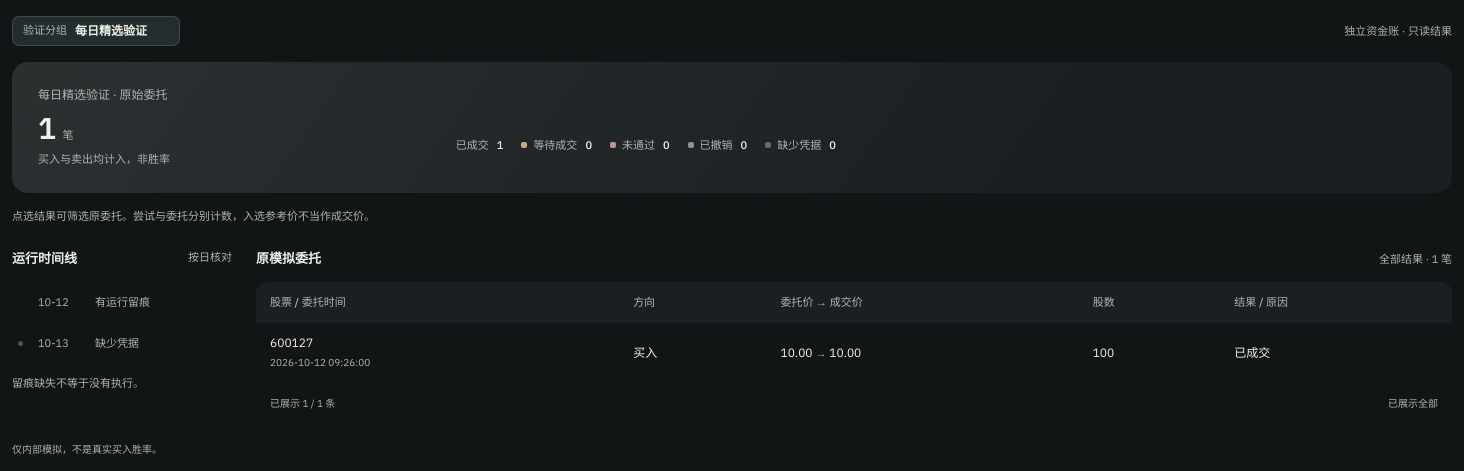
it: internal execution consolidation › filters original orders by result without changing the account facts
Click the button "未通过 0": (640,145) [610,133,670,158]
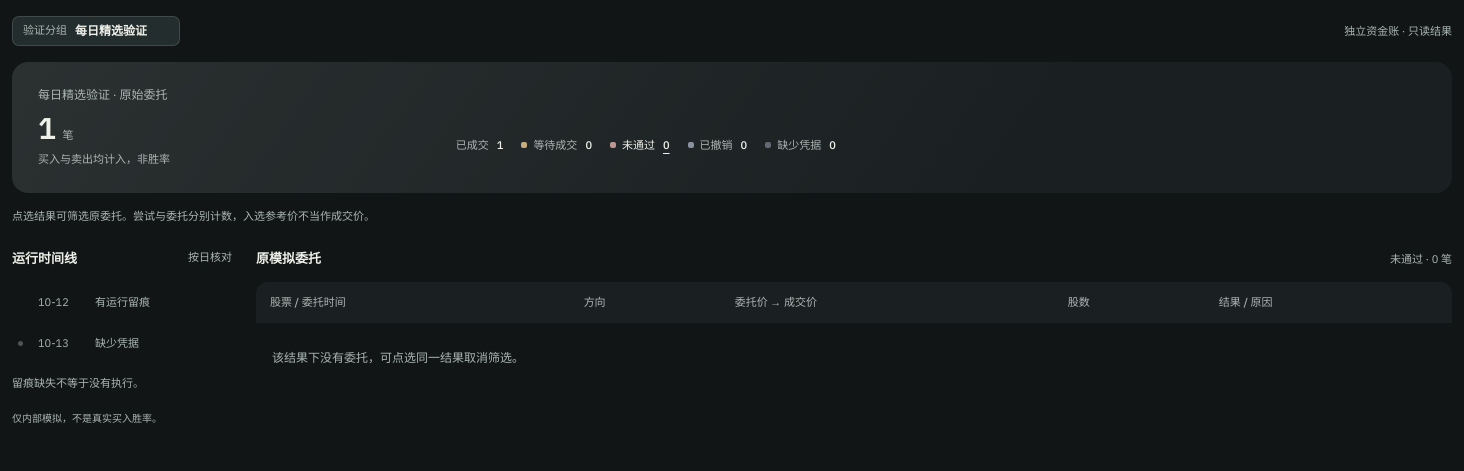
Now the button "600127" is gone
Now the text "该结果下没有委托，可点选同一结果取消筛选。" is shown, box [272,350,524,365]
Click the button "未通过 0": (640,145) [610,133,670,158]
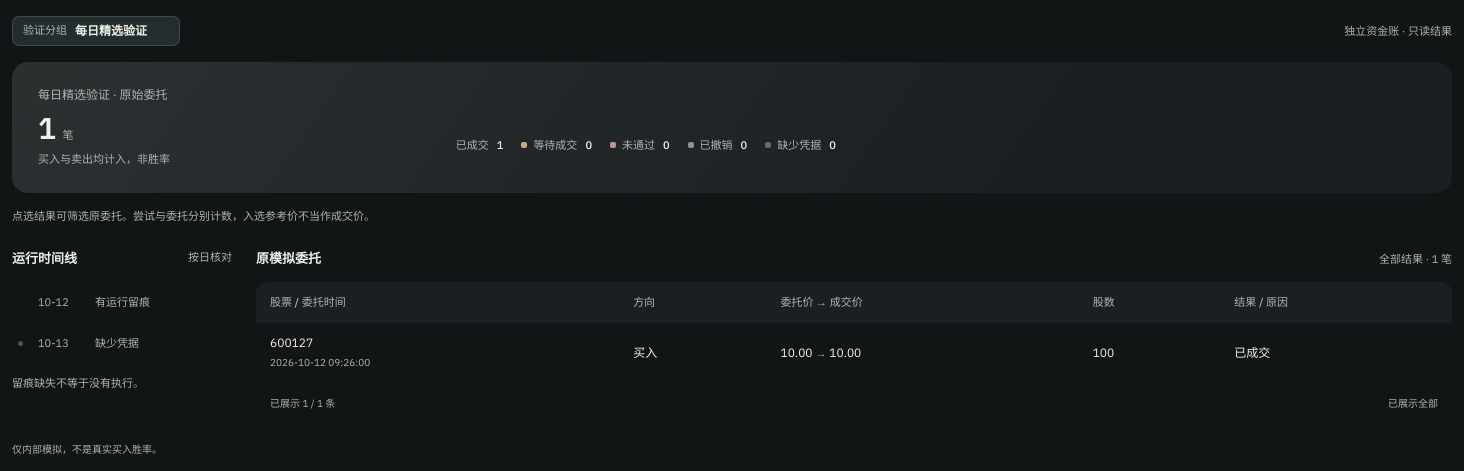
Now the button "600127 2026-10-12 09:26:00" is shown, box [270,335,370,370]
